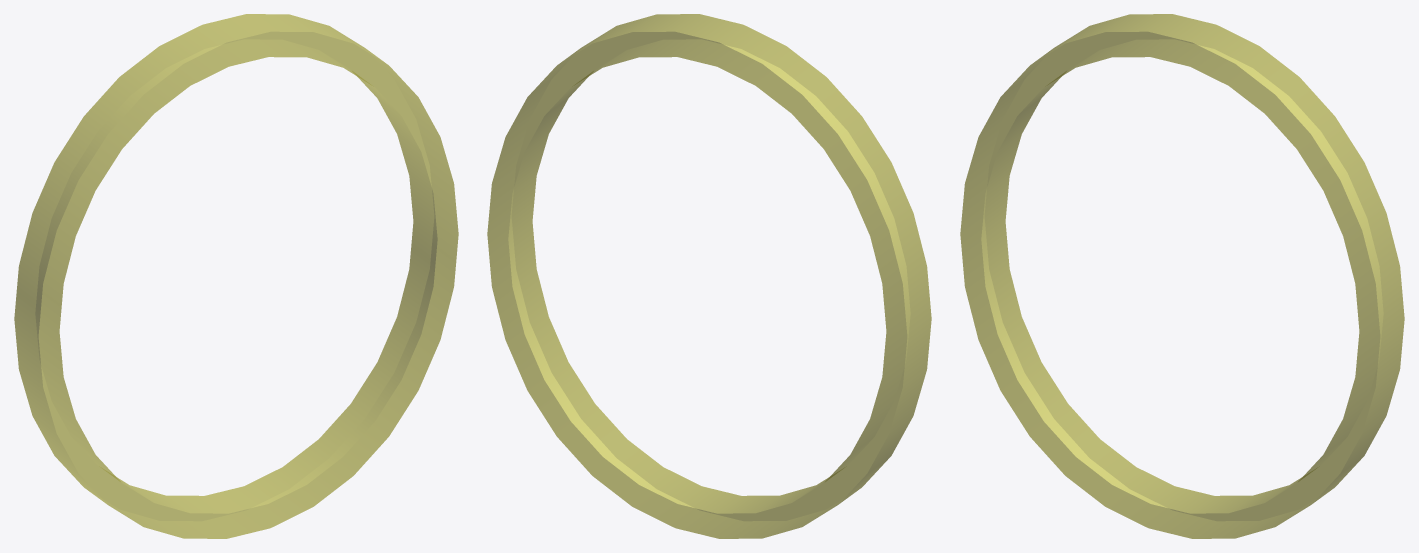
Rendered from hoop_02.dae.
The picture shows the model from 3 angles, left to right: view 1: azimuth 30°, elevation 25°; view 2: azimuth 150°, elevation 25°; view 3: azimuth 330°, elevation 25°; orthographic projection.
Visible parts, largest first — view 1: hoop_02; view 2: hoop_02; view 3: hoop_02.
Boxes of the visible parts, x1,y1,x2,y2 form: hoop_02: [14, 14, 458, 538]; hoop_02: [487, 14, 931, 538]; hoop_02: [960, 14, 1404, 538].
Bounding box in the file's own units: 35.91 × 40.55 × 3.59.
